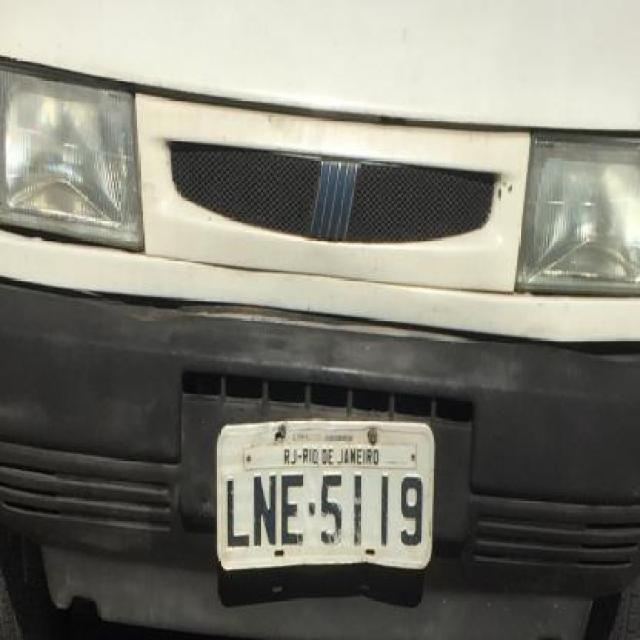old_plate: (212, 413, 439, 576)
